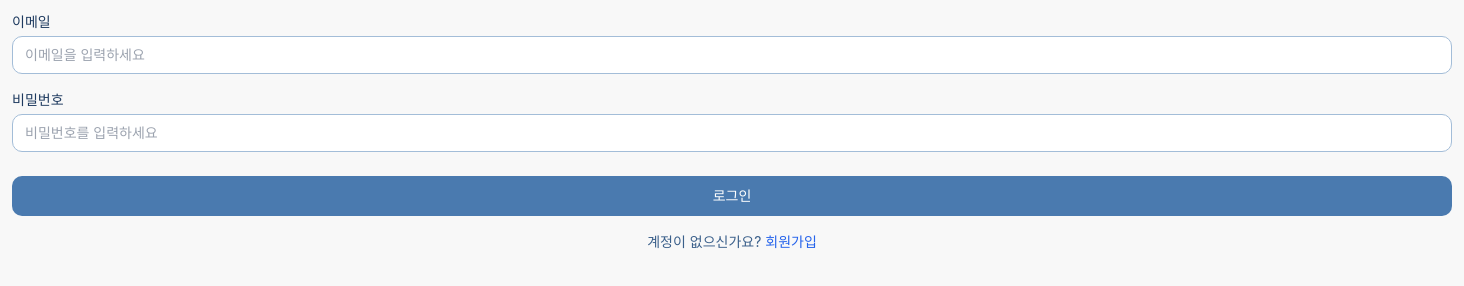
Test: LoginForm › 유효성 검증 › 비밀번호가 8자 미만인 경우 오류 메시지를 표시한다
Type "test@test.com" into the field labelled "이메일" at [732, 55], box [12,36,1452,74]
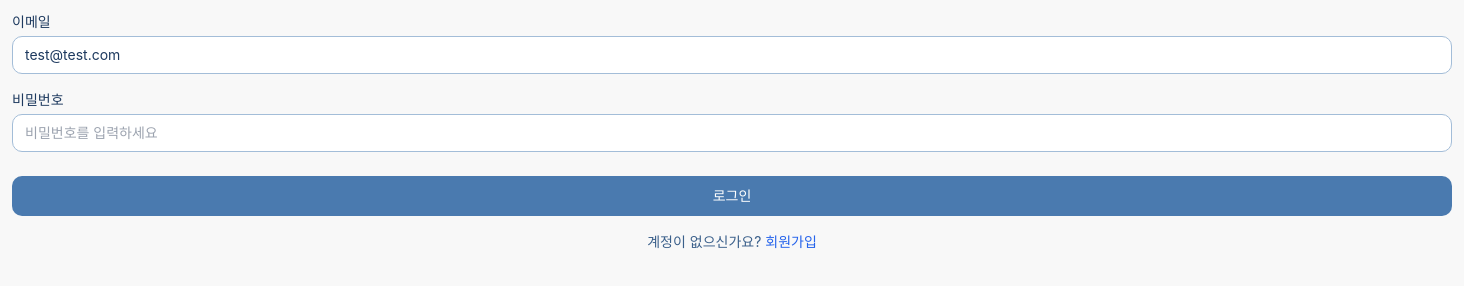
Type "short" into the password field labelled "비밀번호" at [732, 133], box [12,114,1452,152]
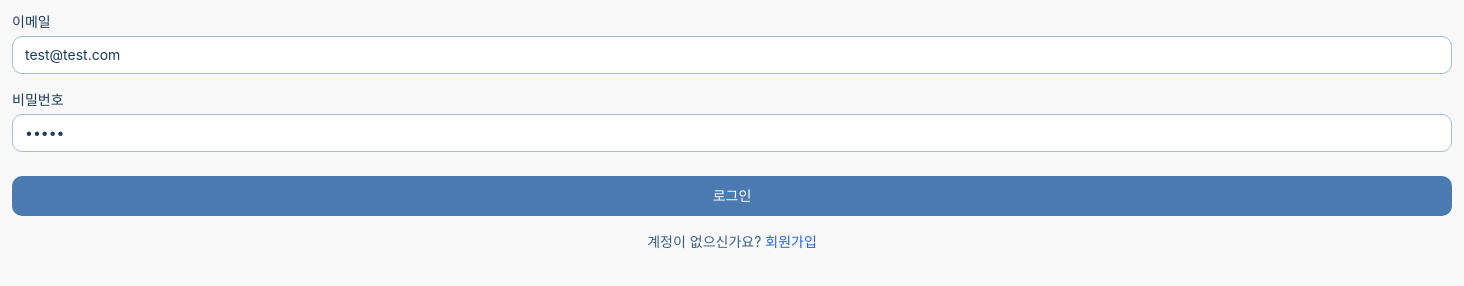
Click the button "로그인" at [732, 196], box [12,176,1452,216]
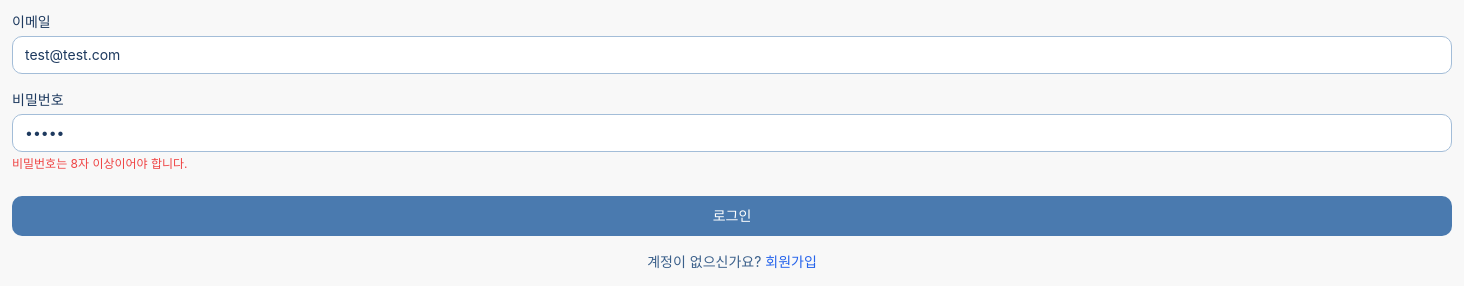
Check: the text "비밀번호는 8자 이상이어야 합니다." is shown, box [12,156,188,171]
